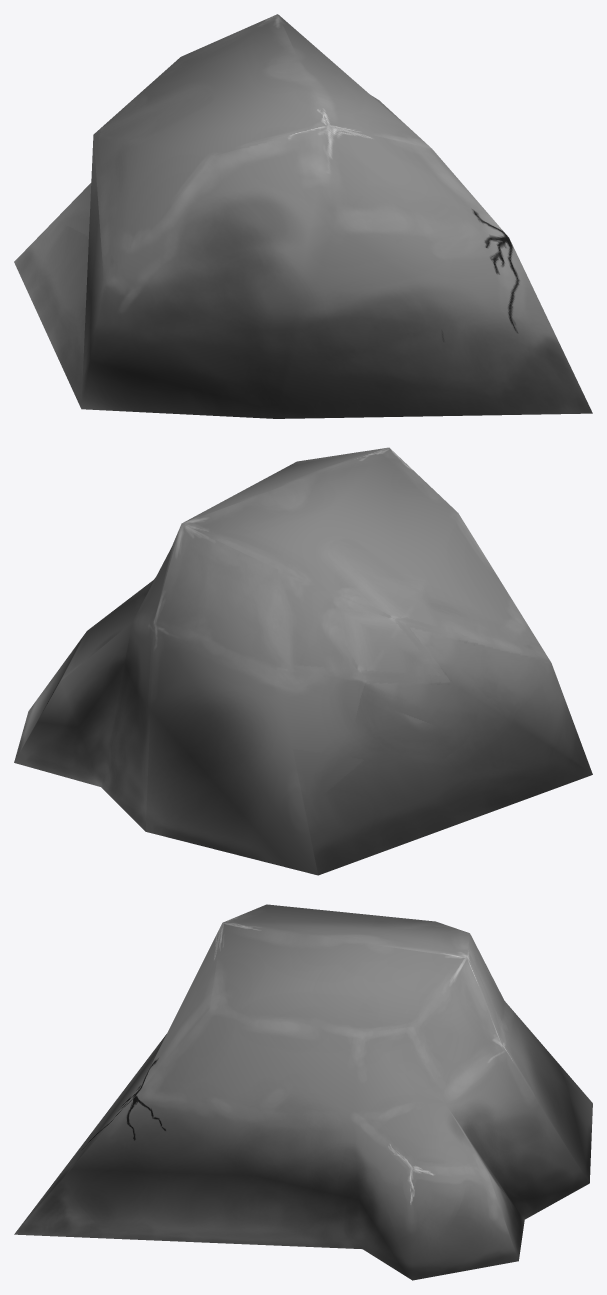
The model's file is SM_Rock_02.fbx.
3 renders of one model, top to bottom at view 1: azimuth 30°, elevation 25°; view 2: azimuth 150°, elevation 25°; view 3: azimuth 270°, elevation 25°, orthographic. The views are drawn at different scales.
Parts seen in each view (by area): view 1: Roca; view 2: Roca; view 3: Roca.
Boxes of the visible parts, x1,y1,x2,y2 form: Roca: (14, 14, 592, 418); Roca: (14, 447, 592, 875); Roca: (14, 904, 592, 1280).
Bounding box in the file's own units: 2.01 × 0.9983 × 2.2.
Materials: 1 (1 with a texture image).
